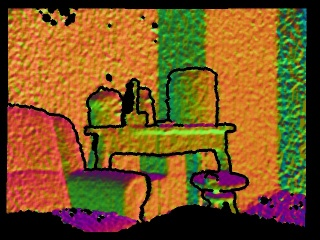station: (122, 79, 149, 126)
